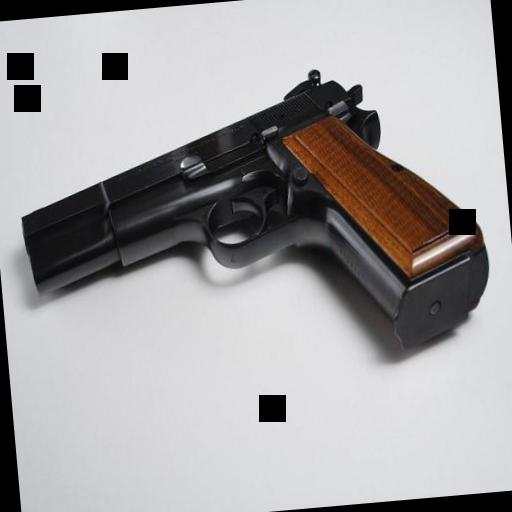Handgun: (8, 52, 499, 414)
